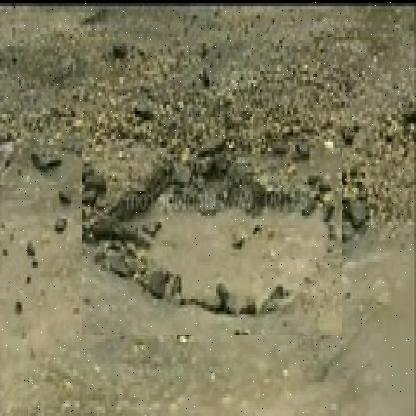pothole: (82, 139, 343, 336)
